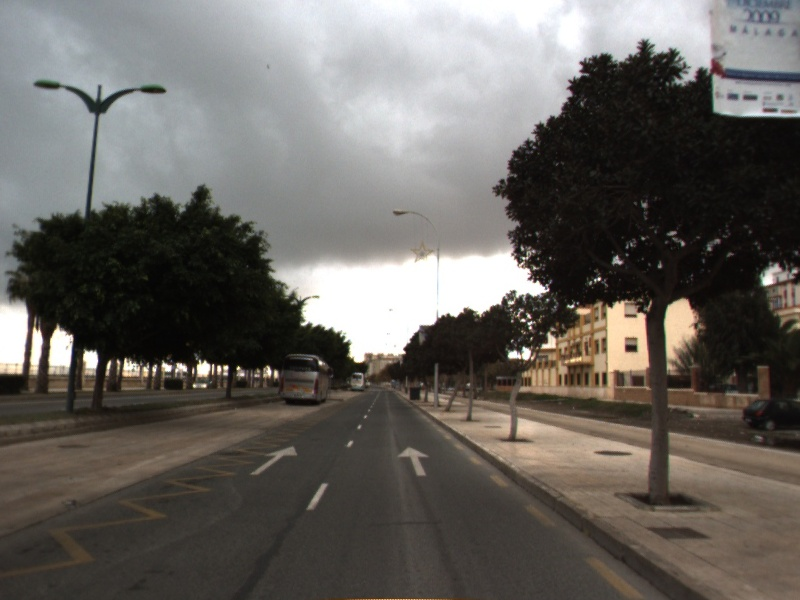STRAIGHT: (248, 444, 300, 477), (395, 444, 433, 478)
